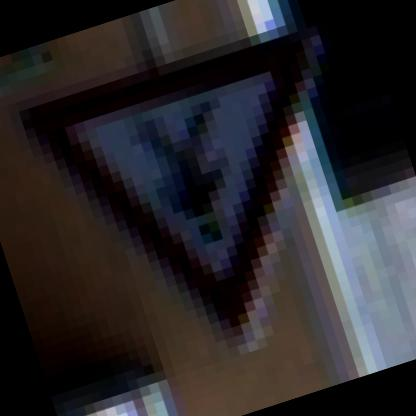crosswalk: (0, 0, 403, 414)
